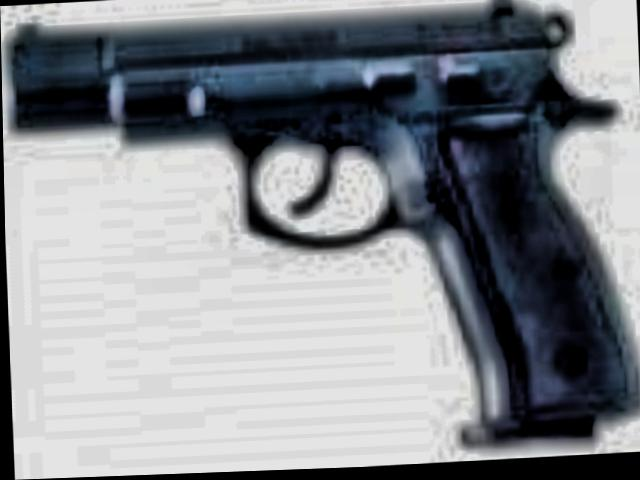pistol: (0, 0, 640, 474)
